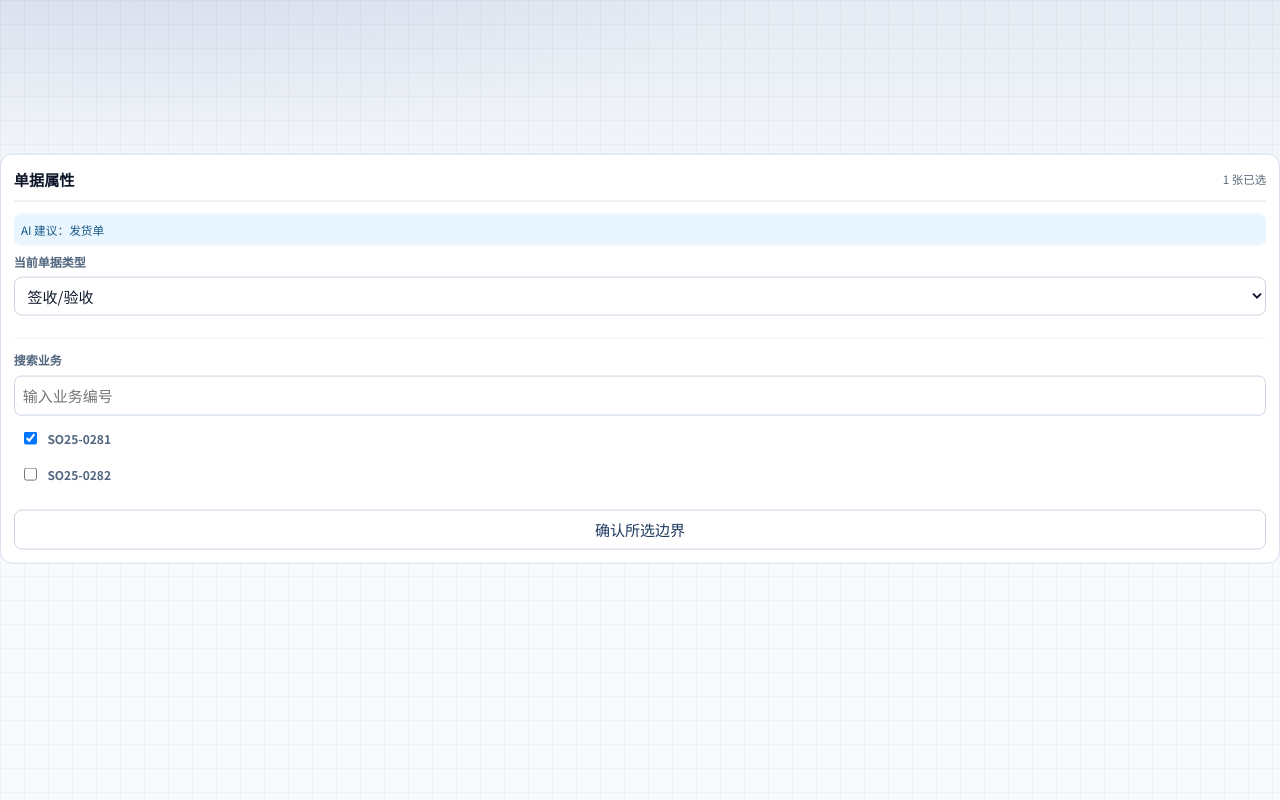
PacketInspector › filters only known sample businesses and never creates an unknown one
Type "SO25-9999" into the search field labelled "搜索业务".
click(640, 396); type("SO25-9999")  # box [14,376,1266,416]
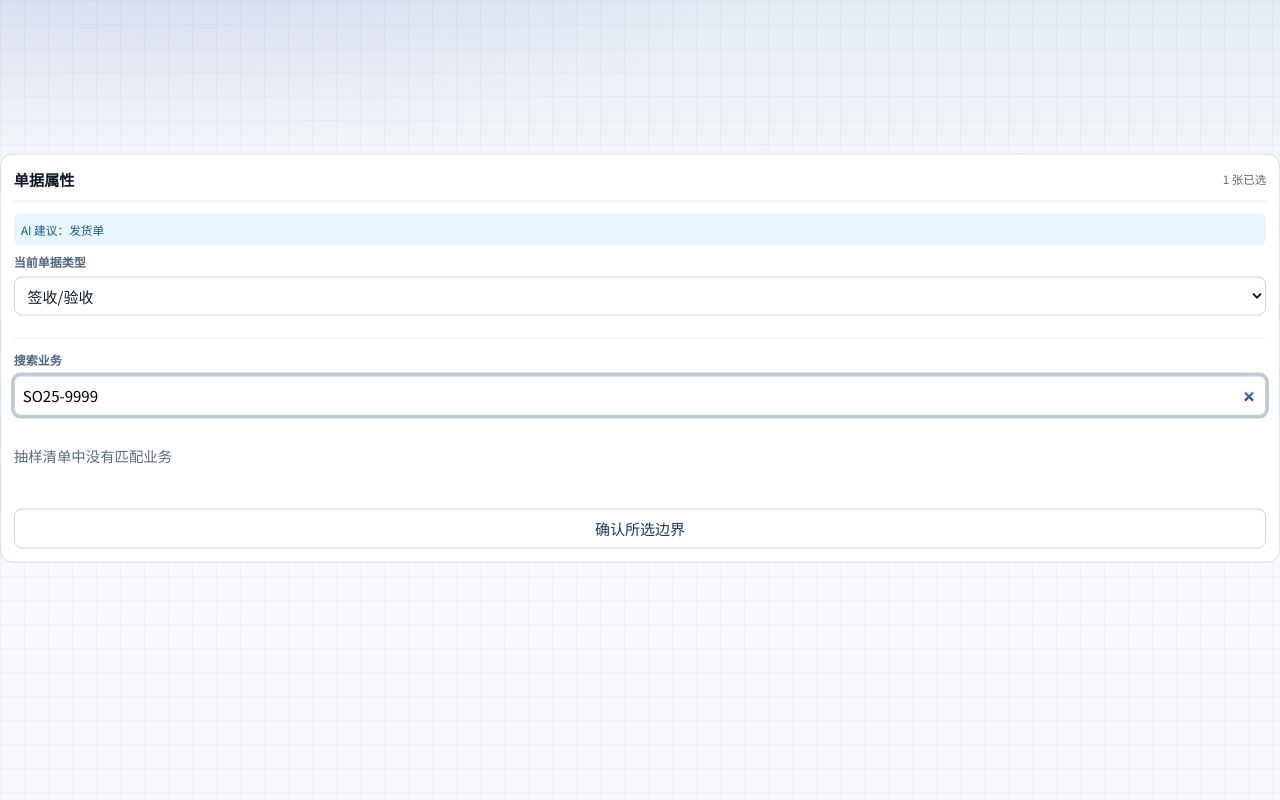
Now the text "抽样清单中没有匹配业务" is shown, box [14,445,172,466]
